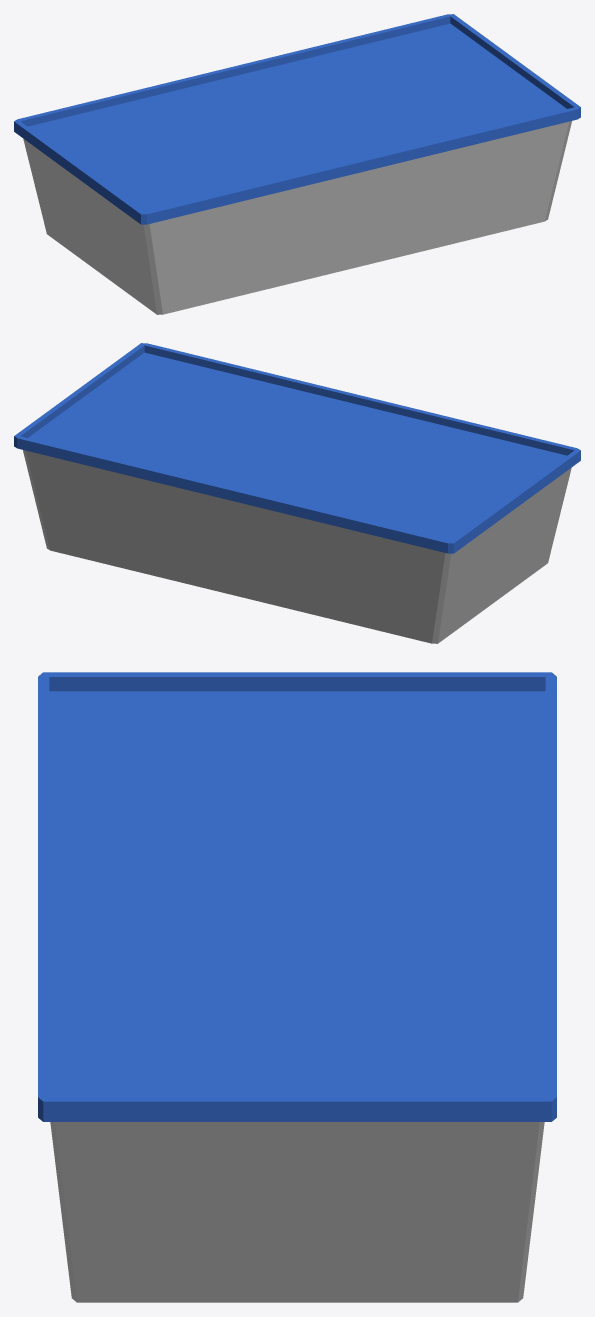
The model's file is tupperware.glb.
The picture shows the model from 3 angles, top to bottom: view 1: azimuth 30°, elevation 25°; view 2: azimuth 150°, elevation 25°; view 3: azimuth 270°, elevation 25°; orthographic projection. The views are drawn at different scales.
Parts seen in each view (by area): view 1: Cube; view 2: Cube; view 3: Cube.
Boxes of the visible parts, x1,y1,x2,y2 form: Cube: (14, 14, 580, 314); Cube: (14, 343, 580, 643); Cube: (38, 672, 556, 1302).
Size of the model in its own units: 4.5 by 1.1 by 2.3.
